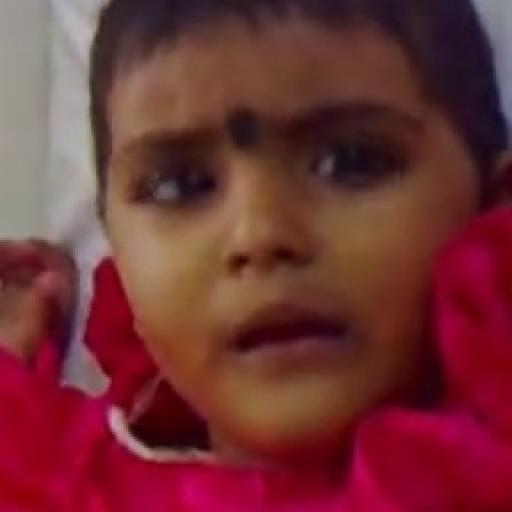Autism: (106, 18, 411, 492)
